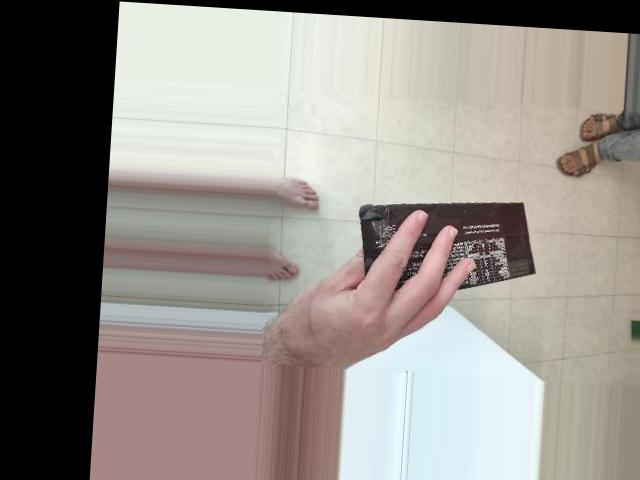chocolate: (438, 86, 554, 284)
